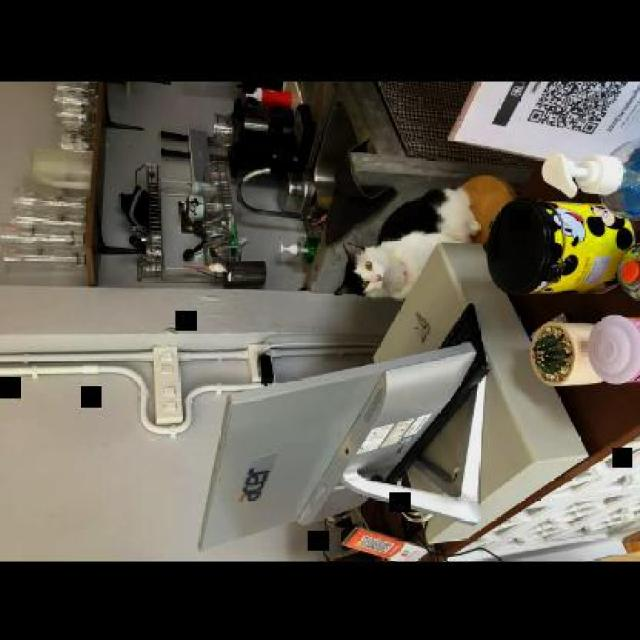unauthorized: (343, 185, 480, 300)
